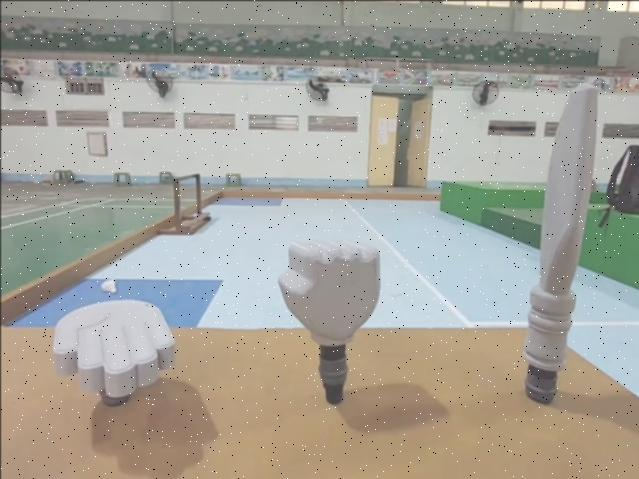Fist: (273, 234, 384, 410)
Hand: (54, 297, 178, 411)
Sph: (520, 86, 598, 415)
